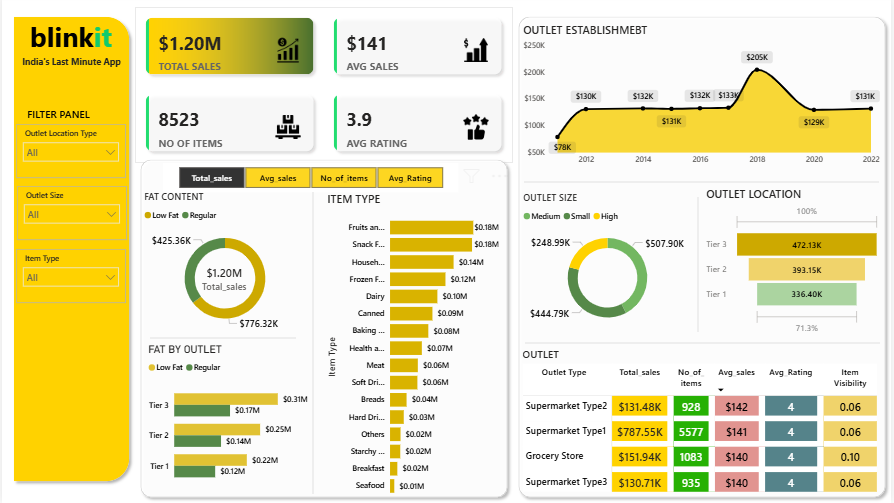

The page's visual inventory and layout, read from the dashboard file:
{"tool":"powerbi","page":{"name":"Page 1","canvas":[1400,800],"ordinal":0},"visuals":[{"type":"shape","box":[9.4,25.2,200,749.6],"z":0},{"type":"textbox","box":[22,31.5,173.2,72.4],"z":1000},{"type":"textbox","box":[9.4,89.8,200,53.5],"z":2000},{"type":"cardVisual","fields":{"Data":["BlinkIT Grocery Data.Total_sales","BlinkIT Grocery Data.Avg_sales","BlinkIT Grocery Data.No_of_items","BlinkIT Grocery Data.Avg_Rating"]},"box":[209.4,18.9,595.3,245.7],"z":3000},{"type":"shape","box":[209.4,250.4,595.3,549.6],"z":4000},{"type":"donutChart","title":"FAT CONTENT","fields":{"Y":["BlinkIT Grocery Data.Total_sales"],"Category":["BlinkIT Grocery Data.Item Fat Content"]},"box":[218.9,307.1,264.6,229.9],"z":5000},{"type":"slicer","fields":{"Values":["Metrix.Metrix"]},"box":[253.5,264.6,464.6,45.7],"z":6000},{"type":"cardVisual","fields":{"Data":["BlinkIT Grocery Data.Total_sales"]},"box":[275.6,400,149.6,92.9],"z":7000},{"type":"clusteredBarChart","title":"FAT BY OUTLET","fields":{"Y":["BlinkIT Grocery Data.Total_sales"],"Category":["BlinkIT Grocery Data.Outlet Location Type"],"Series":["BlinkIT Grocery Data.Item Fat Content"]},"box":[225.2,548,261.4,237.8],"z":8000},{"type":"shape","box":[233.1,533.9,229.9,12.6],"z":9000},{"type":"shape","box":[486.6,310.2,6.3,475.6],"z":10000},{"type":"barChart","title":"ITEM TYPE","fields":{"Y":["BlinkIT Grocery Data.Total_sales"],"Category":["BlinkIT Grocery Data.Item Type"]},"box":[507.1,308.7,280.3,491.3],"z":11000},{"type":"shape","box":[804.7,25.2,595.3,774.8],"z":12000},{"type":"lineChart","title":"OUTLET ESTABLISHMEBT","fields":{"Y":["BlinkIT Grocery Data.Total_sales"],"Category":["BlinkIT Grocery Data.Outlet Establishment Year"]},"box":[815.7,42.5,571.7,234.6],"z":13000},{"type":"shape","box":[822,288.2,559.1,12.6],"z":14000},{"type":"donutChart","title":"OUTLET SIZE","fields":{"Y":["BlinkIT Grocery Data.Total_sales"],"Category":["BlinkIT Grocery Data.Outlet Size"]},"box":[815.7,308.7,275.6,225.2],"z":15000},{"type":"shape","box":[1089.8,318.1,12.6,212.6],"z":16000},{"type":"funnel","title":"OUTLET LOCATION","fields":{"Y":["Sum(BlinkIT Grocery Data.Sales)"],"Category":["BlinkIT Grocery Data.Outlet Location Type"]},"box":[1103.9,300.8,283.5,239.4],"z":17000},{"type":"shape","box":[823.6,541.7,559.1,12.6],"z":18000},{"type":"pivotTable","title":"OUTLET","fields":{"Rows":["BlinkIT Grocery Data.Outlet Type"],"Values":["BlinkIT Grocery Data.Total_sales","BlinkIT Grocery Data.No_of_items","BlinkIT Grocery Data.Avg_sales","BlinkIT Grocery Data.Avg_Rating","Avg(BlinkIT Grocery Data.Item Visibility)"]},"box":[815.7,554.3,571.7,245.7],"z":19000},{"type":"slicer","fields":{"Values":["BlinkIT Grocery Data.Outlet Location Type"]},"box":[22,203.1,173.2,85],"z":20000},{"type":"slicer","fields":{"Values":["BlinkIT Grocery Data.Outlet Size"]},"box":[23.6,300.8,173.2,85],"z":21000},{"type":"slicer","fields":{"Values":["BlinkIT Grocery Data.Item Type"]},"box":[22,400,173.2,85],"z":22000},{"type":"textbox","box":[34.6,171.7,146.5,31.5],"z":23000}]}

Visuals, with their boxes in screenshot pixels (x1, y1, x2, y2), scaled from the page's 1400x800 canvas onto the 894x503 screenshot:
shape: [left=6, top=16, right=134, bottom=487]
textbox: [left=14, top=20, right=125, bottom=65]
textbox: [left=6, top=56, right=134, bottom=90]
cardVisual - BlinkIT Grocery Data.Total_sales x BlinkIT Grocery Data.Avg_sales: [left=134, top=12, right=514, bottom=166]
shape: [left=134, top=157, right=514, bottom=502]
"FAT CONTENT" donutChart: [left=140, top=193, right=309, bottom=338]
slicer - Metrix.Metrix: [left=162, top=166, right=459, bottom=195]
cardVisual - BlinkIT Grocery Data.Total_sales: [left=176, top=252, right=272, bottom=310]
"FAT BY OUTLET" clusteredBarChart: [left=144, top=345, right=311, bottom=494]
shape: [left=149, top=336, right=296, bottom=344]
shape: [left=311, top=195, right=315, bottom=494]
"ITEM TYPE" barChart: [left=324, top=194, right=503, bottom=502]
shape: [left=514, top=16, right=893, bottom=502]
"OUTLET ESTABLISHMEBT" lineChart: [left=521, top=27, right=886, bottom=174]
shape: [left=525, top=181, right=882, bottom=189]
"OUTLET SIZE" donutChart: [left=521, top=194, right=697, bottom=336]
shape: [left=696, top=200, right=704, bottom=334]
"OUTLET LOCATION" funnel: [left=705, top=189, right=886, bottom=340]
shape: [left=526, top=341, right=883, bottom=349]
"OUTLET" pivotTable: [left=521, top=349, right=886, bottom=502]
slicer - BlinkIT Grocery Data.Outlet Location Type: [left=14, top=128, right=125, bottom=181]
slicer - BlinkIT Grocery Data.Outlet Size: [left=15, top=189, right=126, bottom=243]
slicer - BlinkIT Grocery Data.Item Type: [left=14, top=252, right=125, bottom=305]
textbox: [left=22, top=108, right=116, bottom=128]
